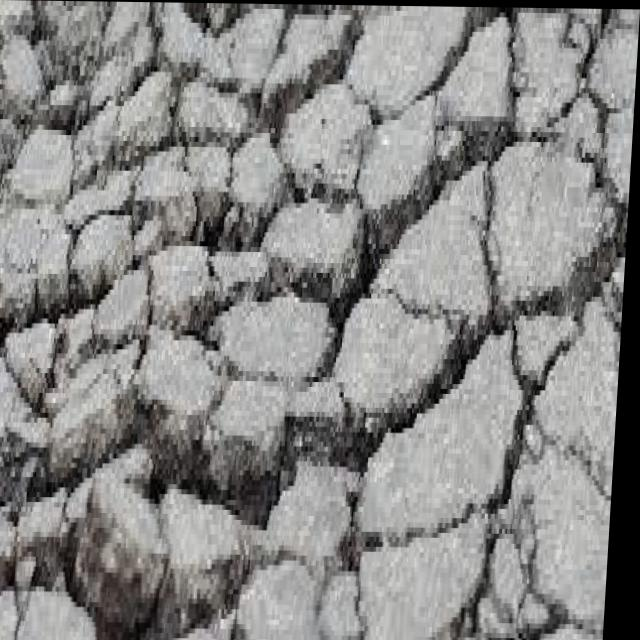Crack: (143, 176, 375, 500), (0, 248, 144, 528), (484, 125, 628, 320)
